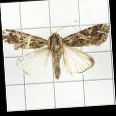Spodoptera litura: (2, 24, 111, 81)
